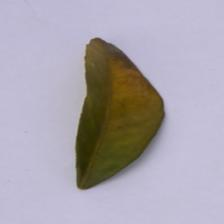greening: (85, 68, 161, 149)
